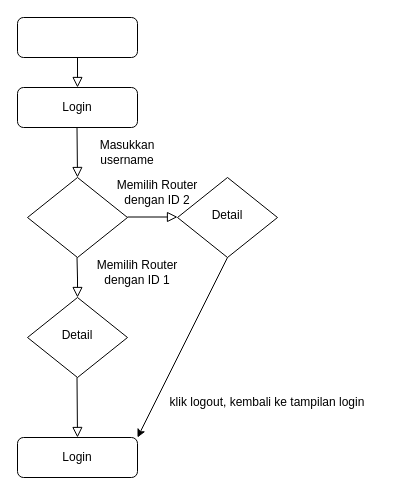
This 395x495 diagram has some shape labels left out. Here are the shapes that lost their labels. From the top down, the box of each, then its label:
(16, 16, 138, 58): Splashscreen
(26, 176, 128, 258): List
